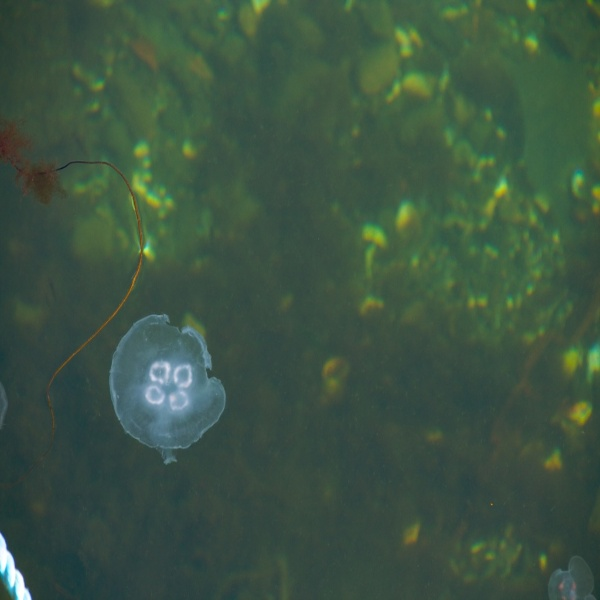Jellyfish: (100, 317, 229, 467)
